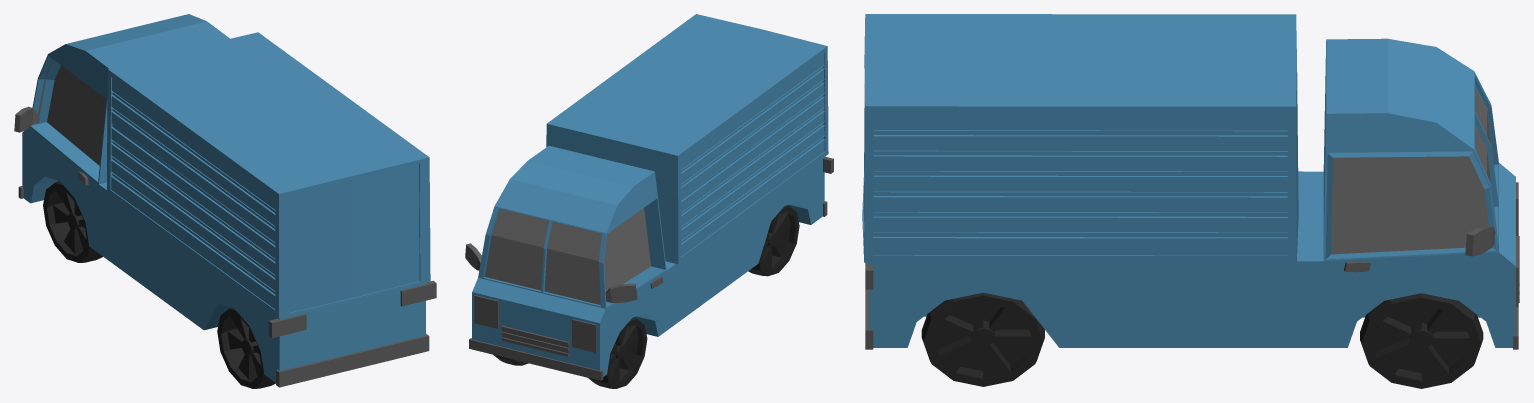
Rendered from Car06.fbx.
3 renders of one model, left to right at view 1: azimuth 30°, elevation 25°; view 2: azimuth 150°, elevation 25°; view 3: azimuth 270°, elevation 25°, orthographic. The views are drawn at different scales.
Parts seen in each view (by area): view 1: Car_06; view 2: Car_06; view 3: Car_06.
Part boxes in pixels (x1=…): Car_06: x1=14, y1=14, x2=436, y2=388; Car_06: x1=465, y1=14, x2=833, y2=388; Car_06: x1=862, y1=14, x2=1519, y2=388.
Bounding box in the file's own units: 9.07 × 10.15 × 20.85.
